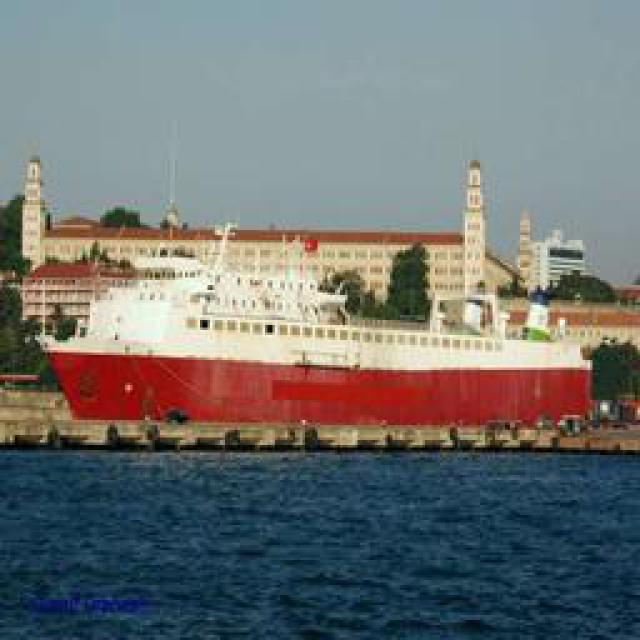Ship: (28, 240, 623, 453)
